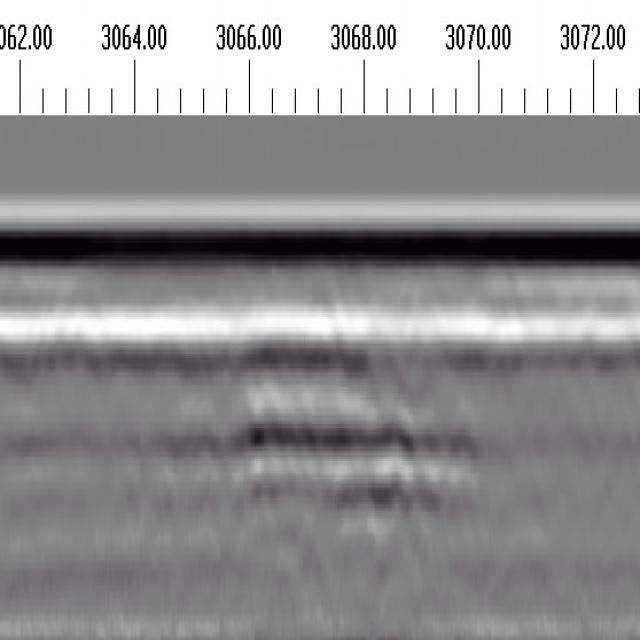loose: (234, 320, 476, 520)
